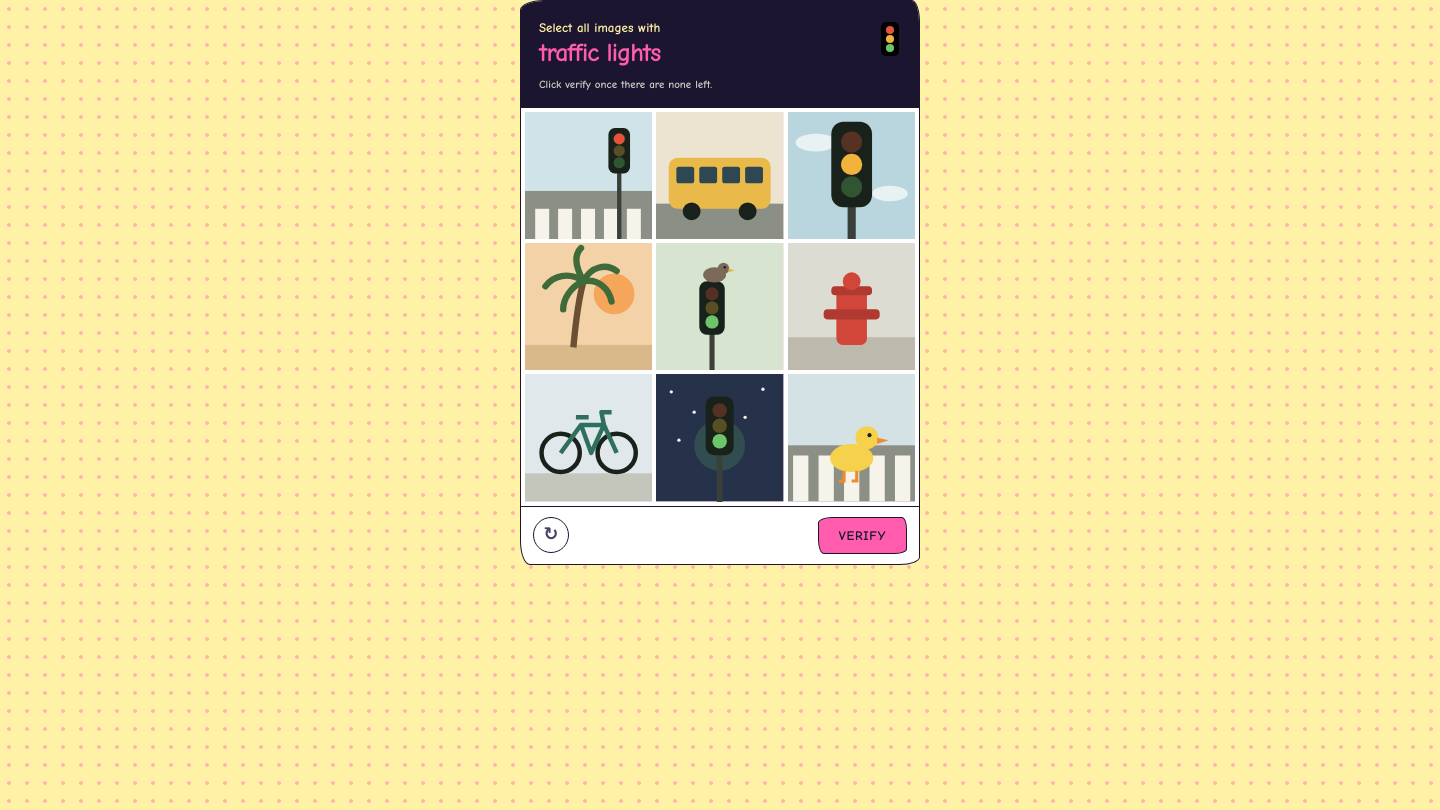
Test: runaway traffic light › heckles an early verify and keeps going
This screenshot has width=1440, height=810.
Click the button "Verify": (862, 535) [818,517,907,554]
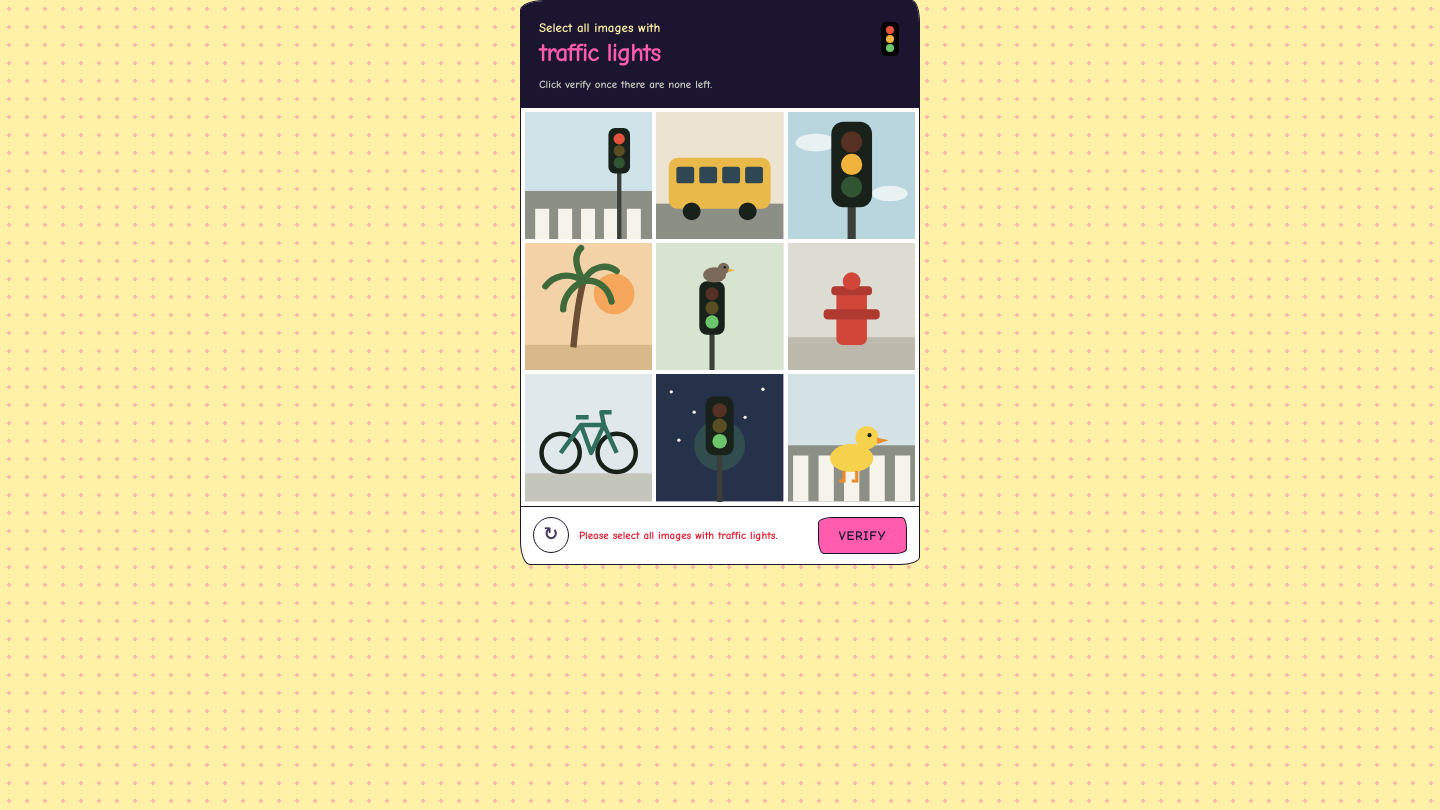
Result: the text "Please select all images with traffic lights." is shown at [579,528,808,543]
Click the button named "A crosswalk with a traffic light": (589, 175) [525,112,652,239]
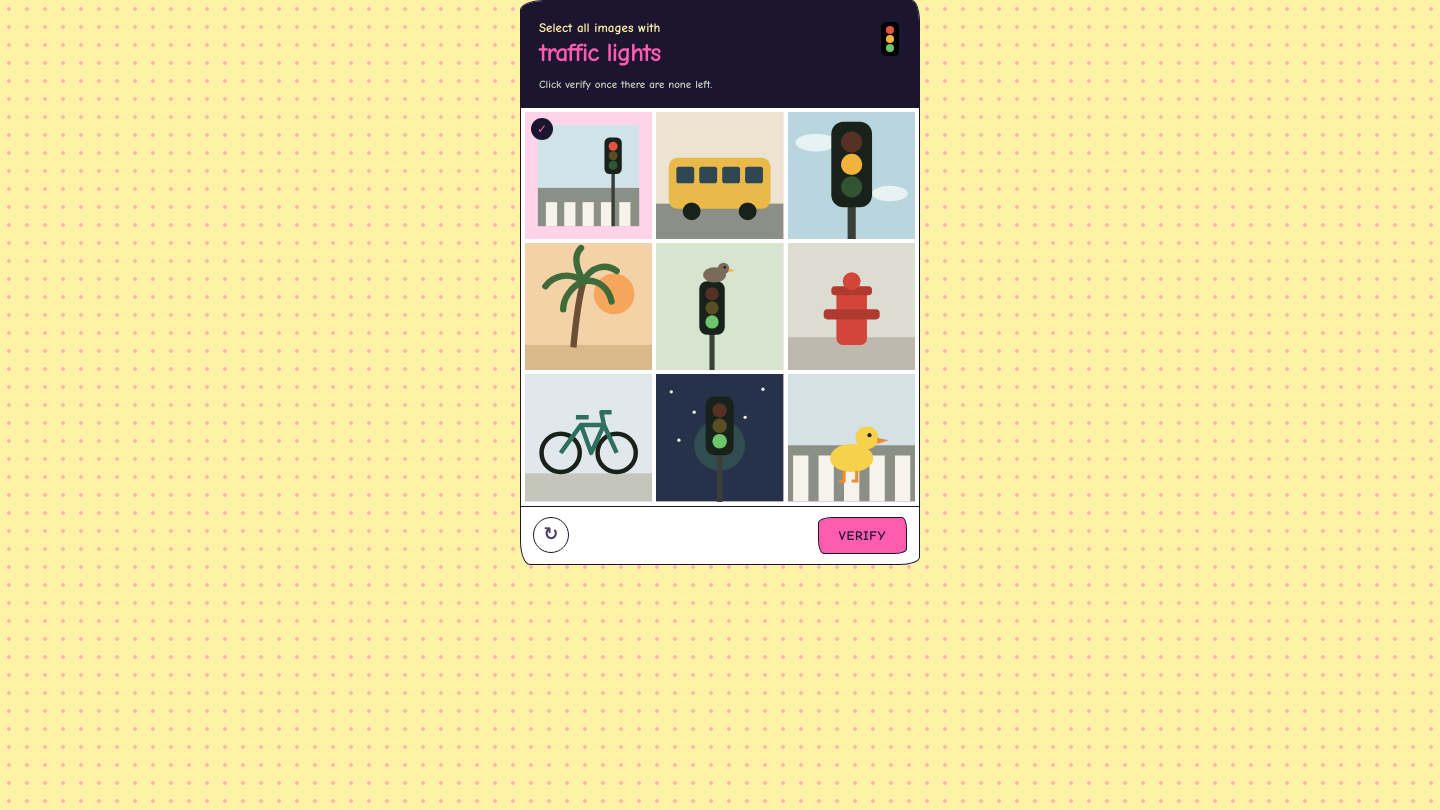
Click the button named "A close-up of a traffic light": (851, 175) [788,112,915,239]
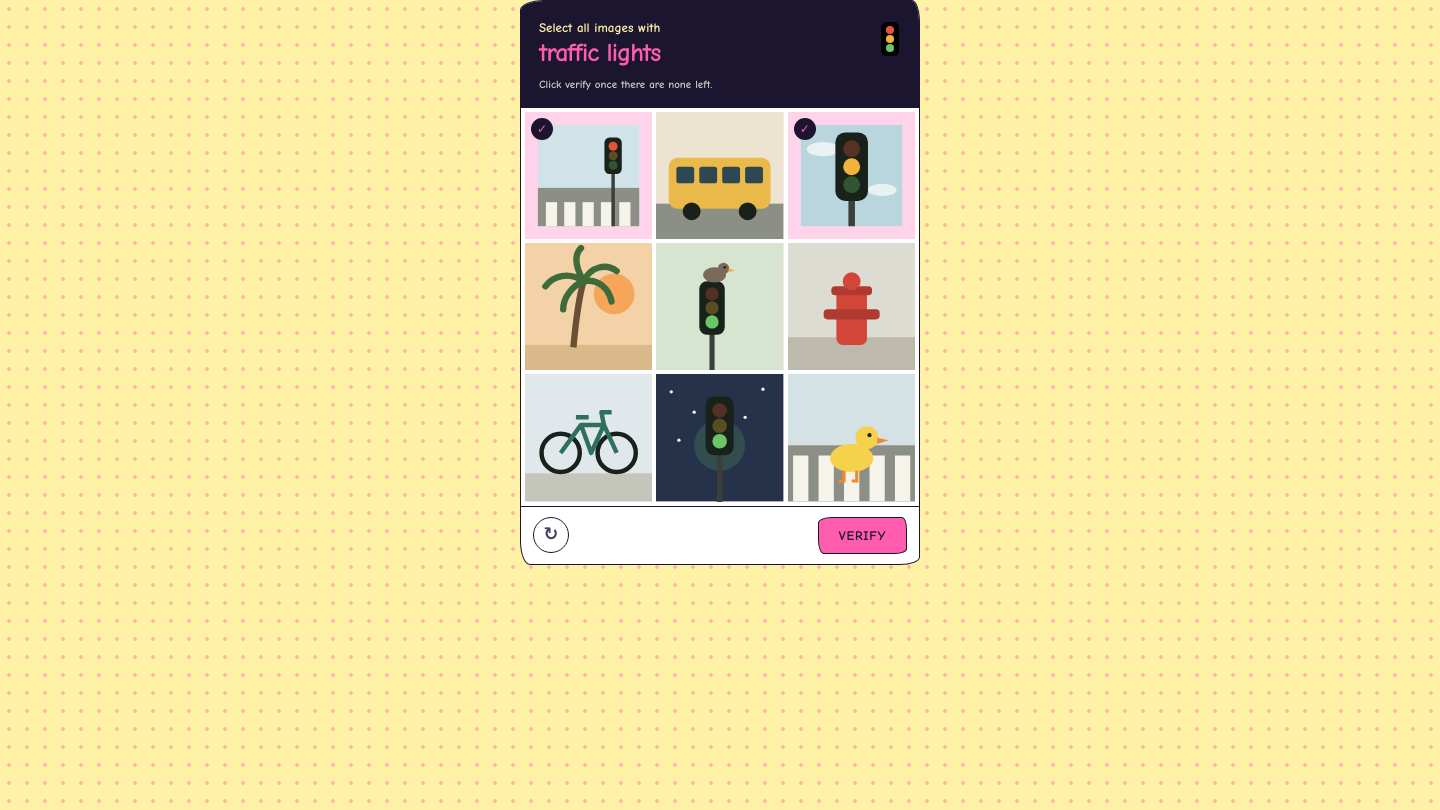
Click the button named "A bird sitting on a traffic light": (720, 307) [656,243,784,370]
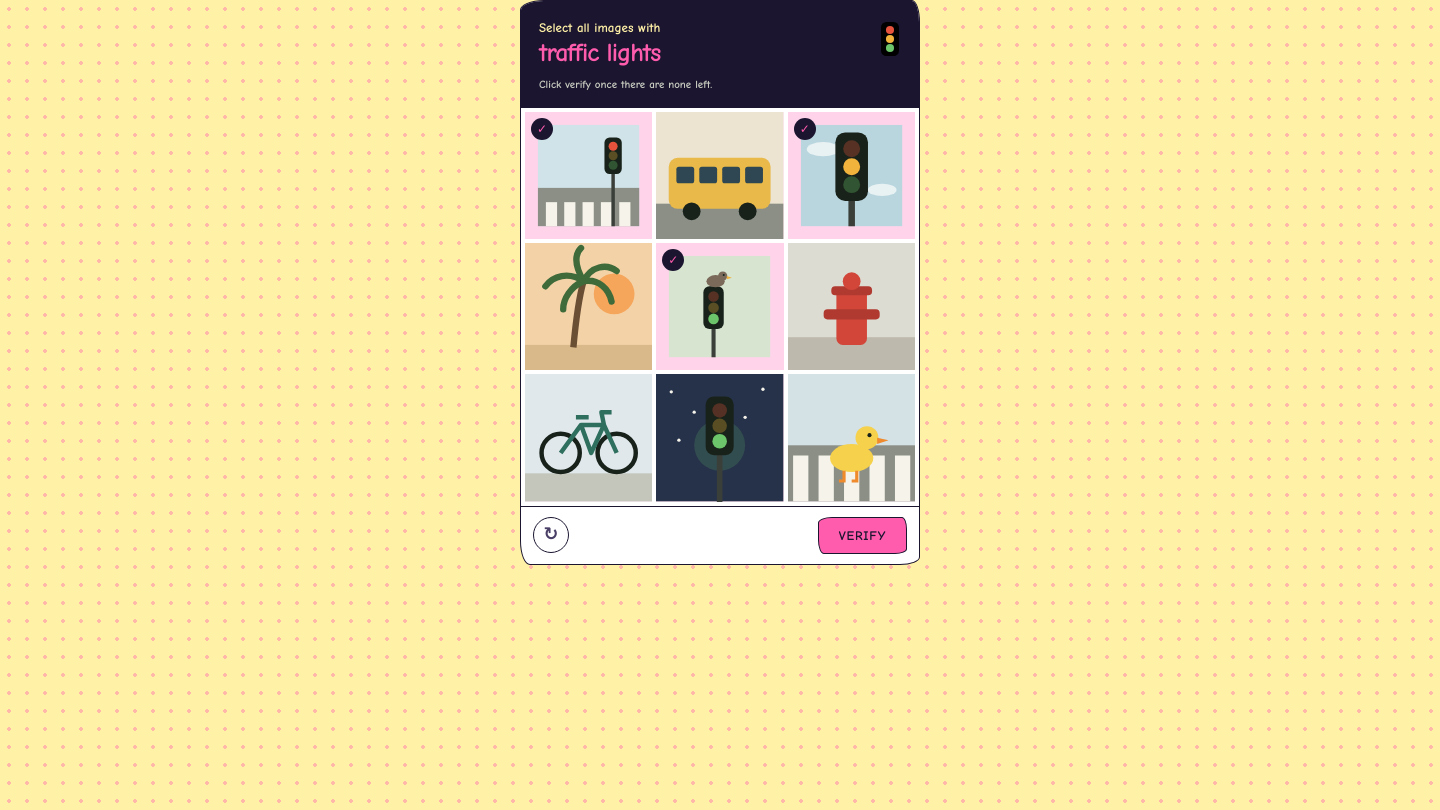
Click the button named "A traffic light at night": (720, 438) [656,374,784,502]
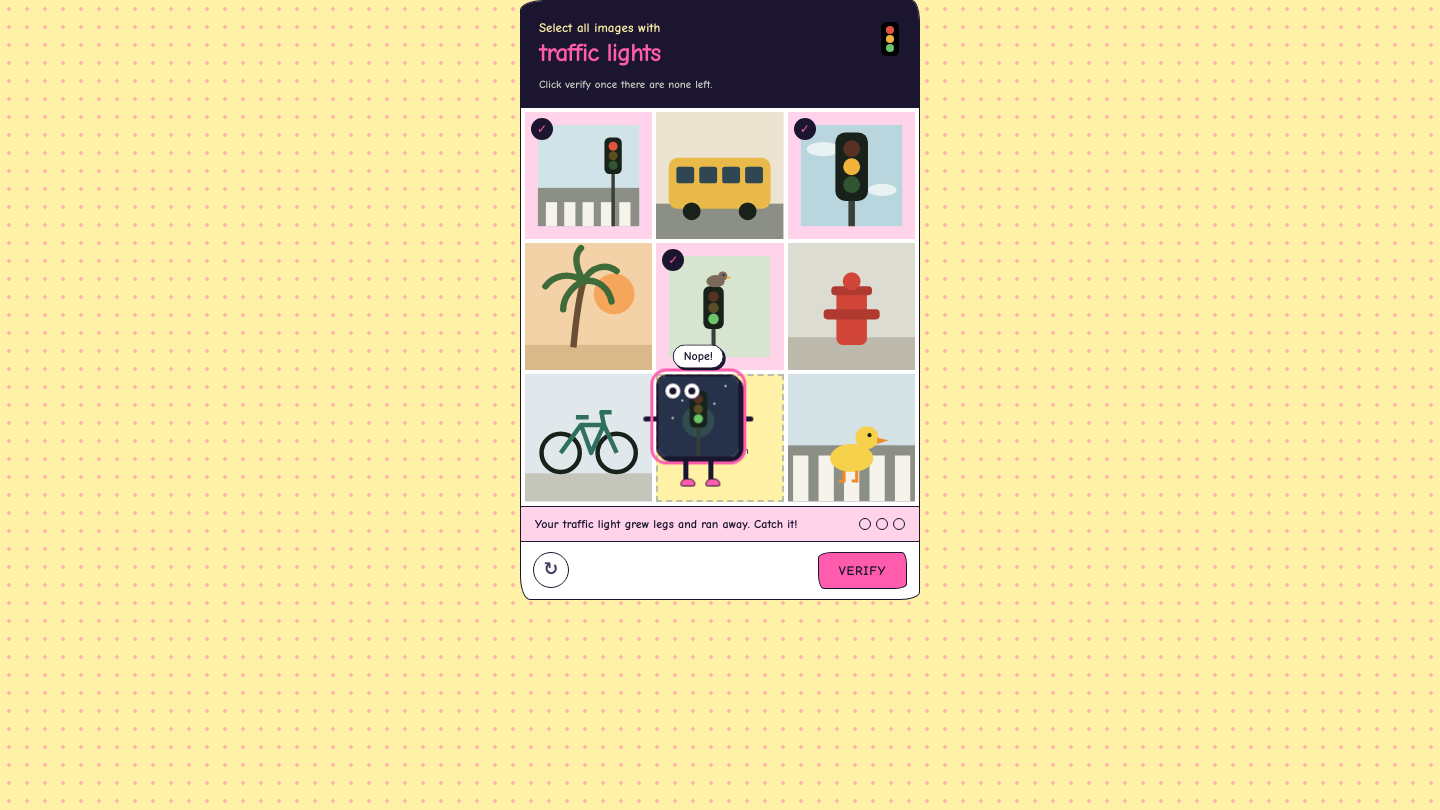
Click the button "Verify": (862, 570) [818,552,907,589]
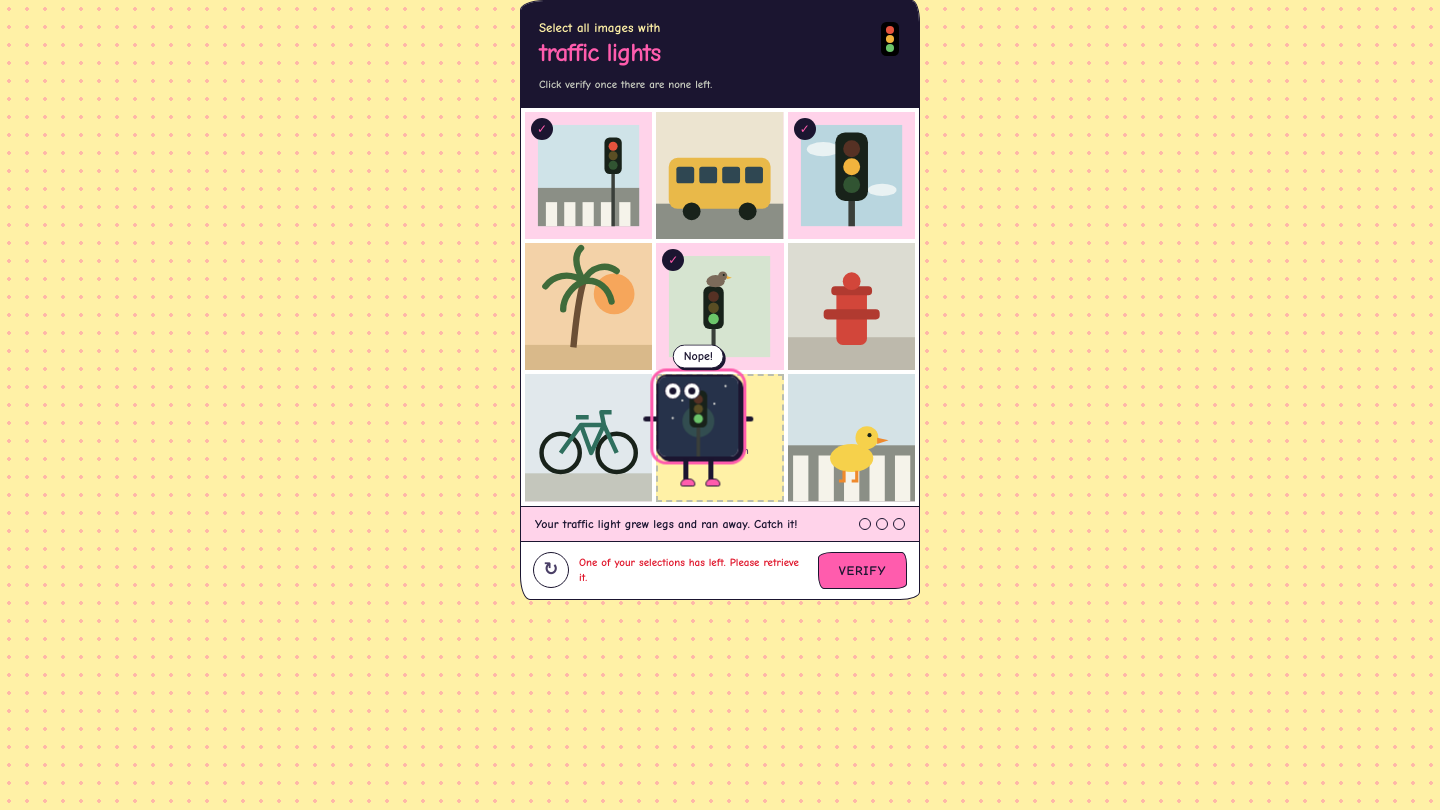
Result: the text "One of your selections has left. Please retrieve it." is shown at [579,555,808,586]
